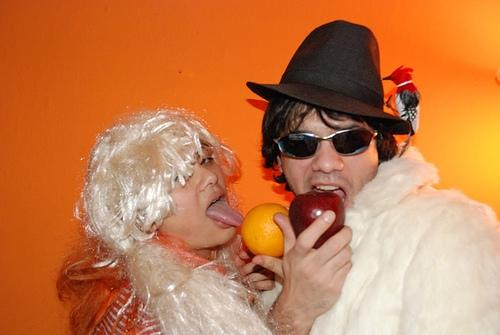apple: (288, 191, 345, 250)
orange: (241, 203, 289, 257)
